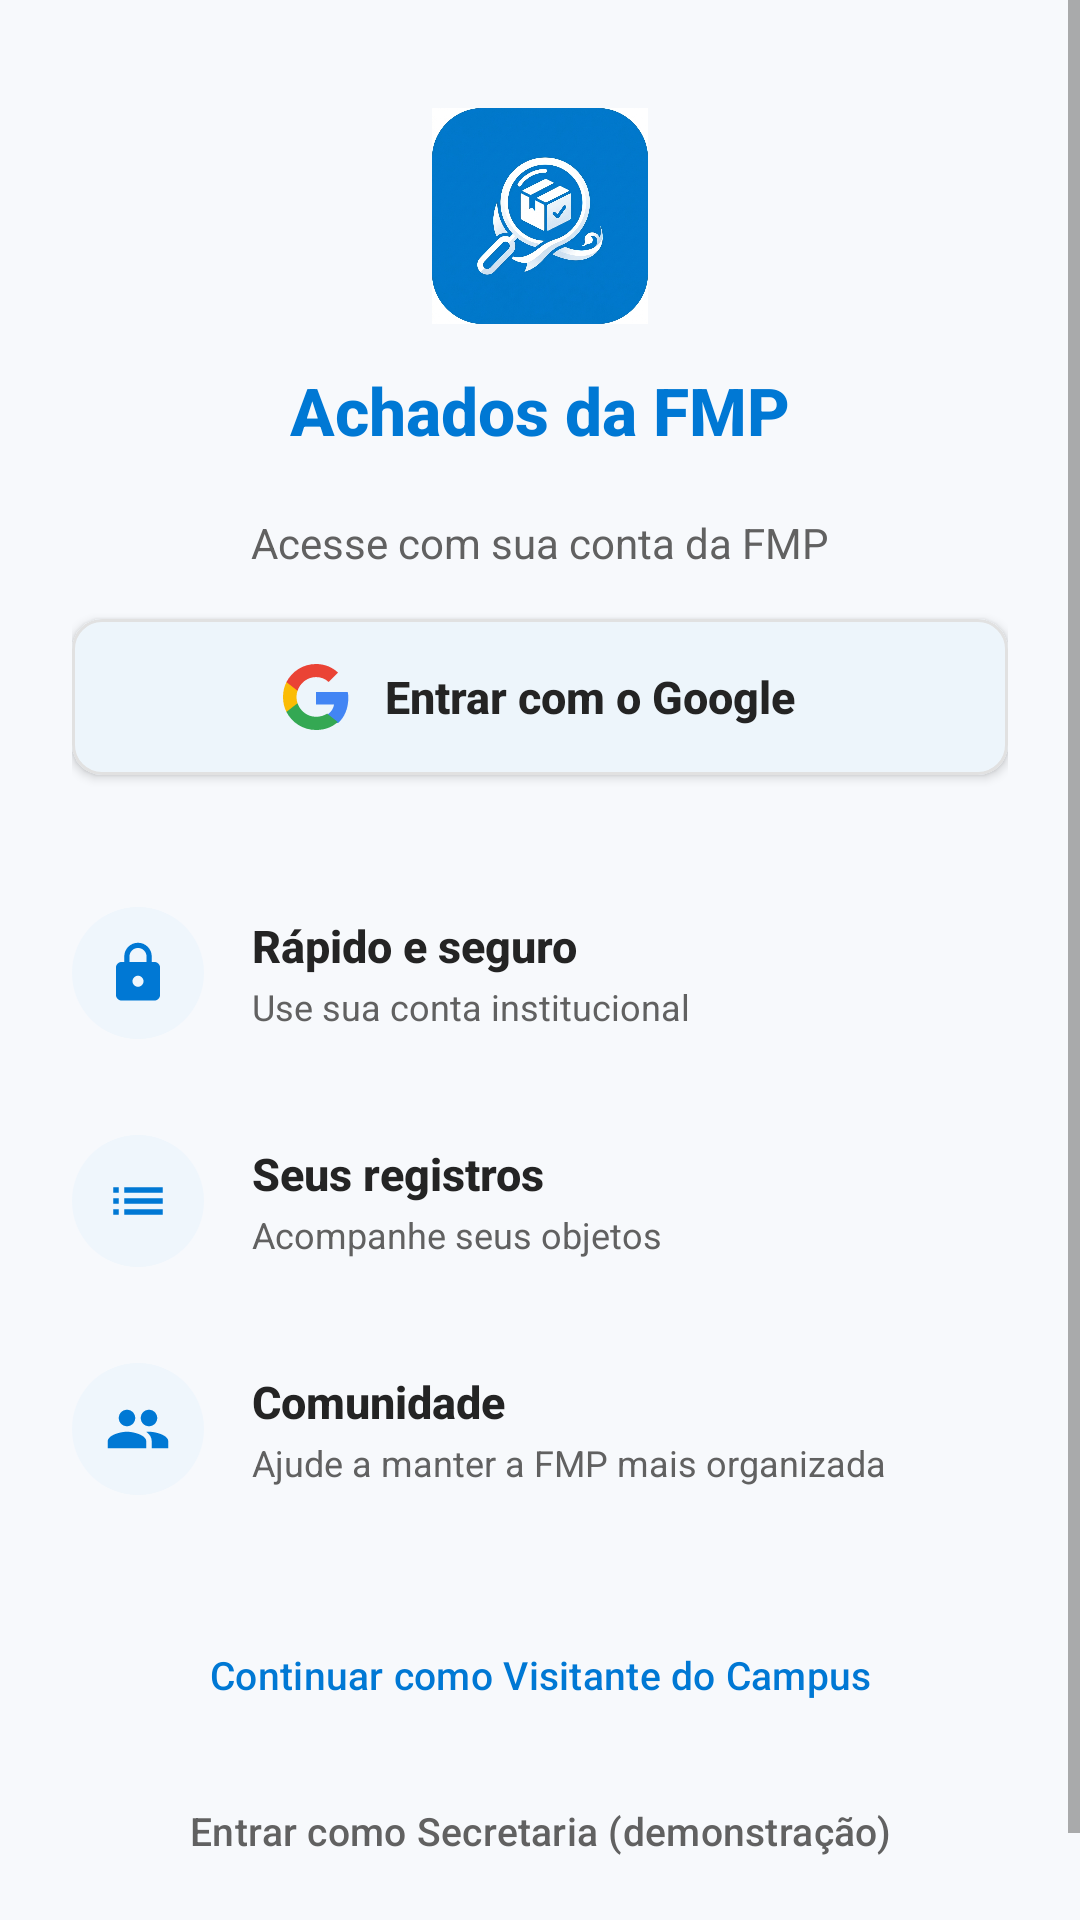

Named icons in this screenshot (1080x1920) and their bounding boxes, box(x1, y1, x2, y2):
feature list: box(113, 1187, 163, 1215)
lock: box(116, 942, 160, 1001)
users: box(107, 1409, 169, 1449)
